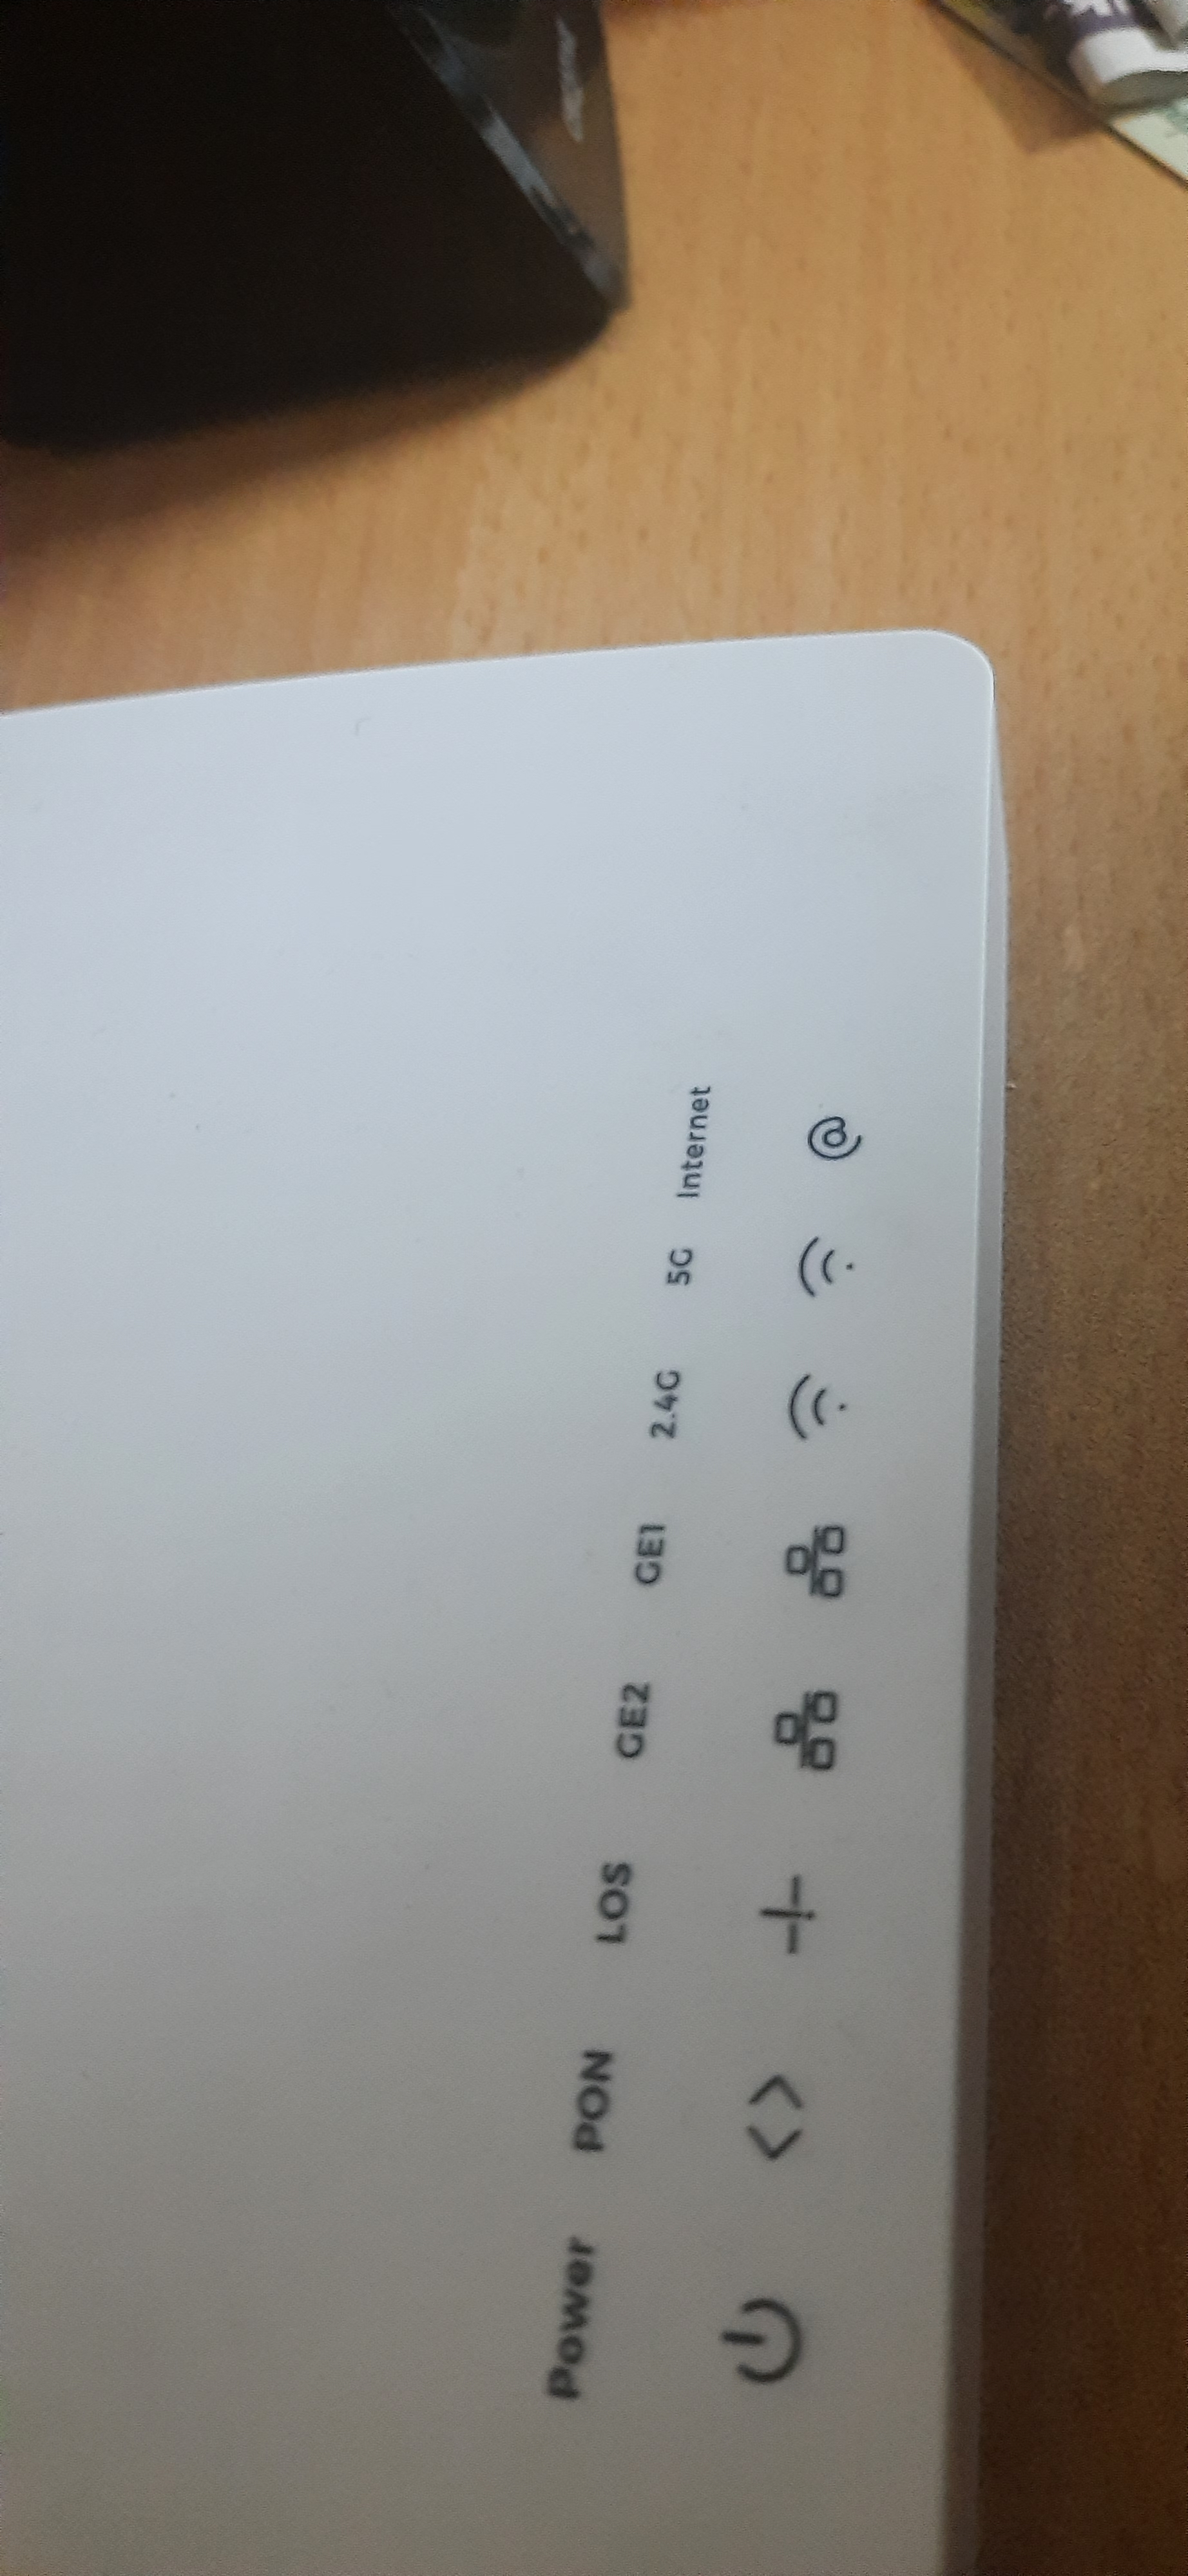WhiteWireIssue: (501, 1009, 889, 2464)
